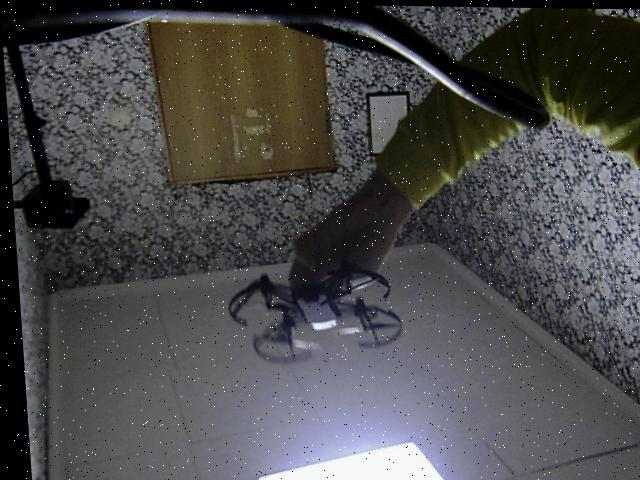drone: (213, 257, 414, 378)
